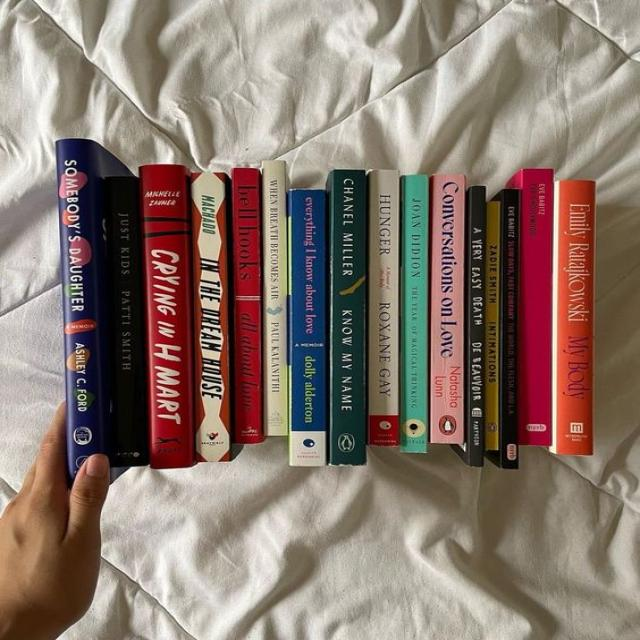book: (140, 164, 193, 468), (56, 137, 98, 471), (104, 177, 148, 466), (191, 171, 232, 463), (334, 170, 366, 464), (291, 191, 325, 467), (558, 180, 592, 454), (432, 174, 464, 443), (233, 168, 263, 444), (369, 169, 399, 444), (522, 168, 551, 445), (403, 176, 429, 452), (263, 160, 288, 436), (502, 189, 518, 468), (486, 201, 500, 451), (470, 186, 482, 466)
